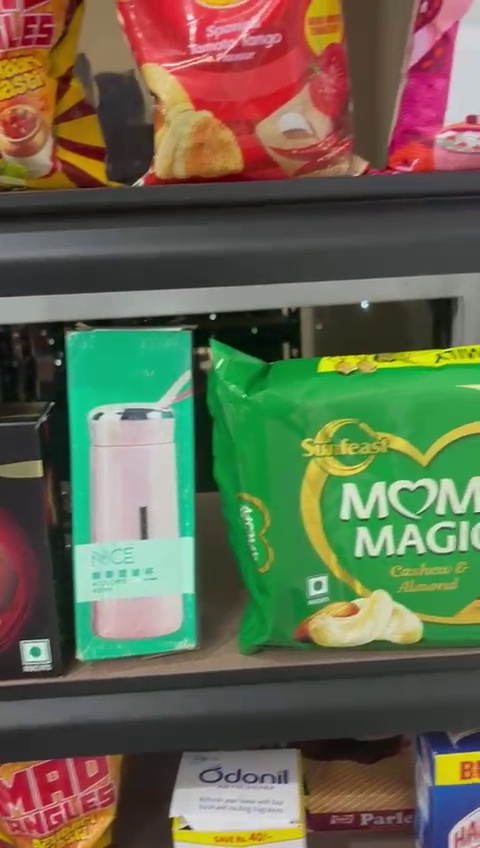Bottle: (68, 333, 199, 659)
